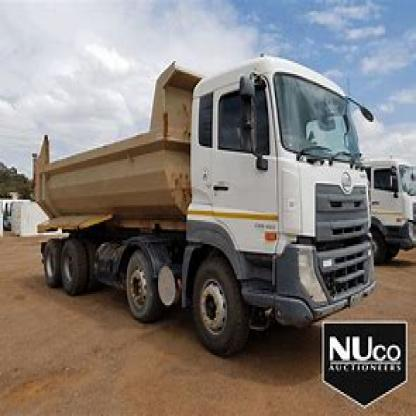dump_truck: (24, 48, 386, 355)
